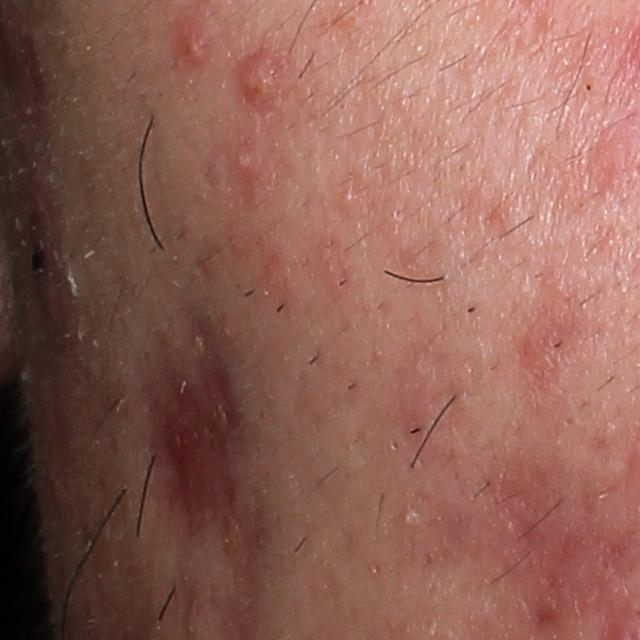atrophic_scar: (486, 470, 588, 622), (572, 134, 608, 198)
papule: (238, 56, 281, 114), (182, 23, 208, 63)
